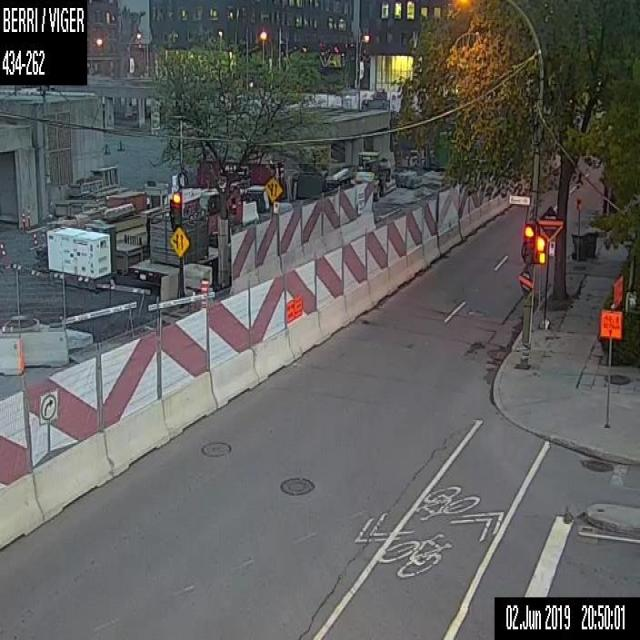construction: (597, 305, 621, 424), (198, 276, 209, 308)
